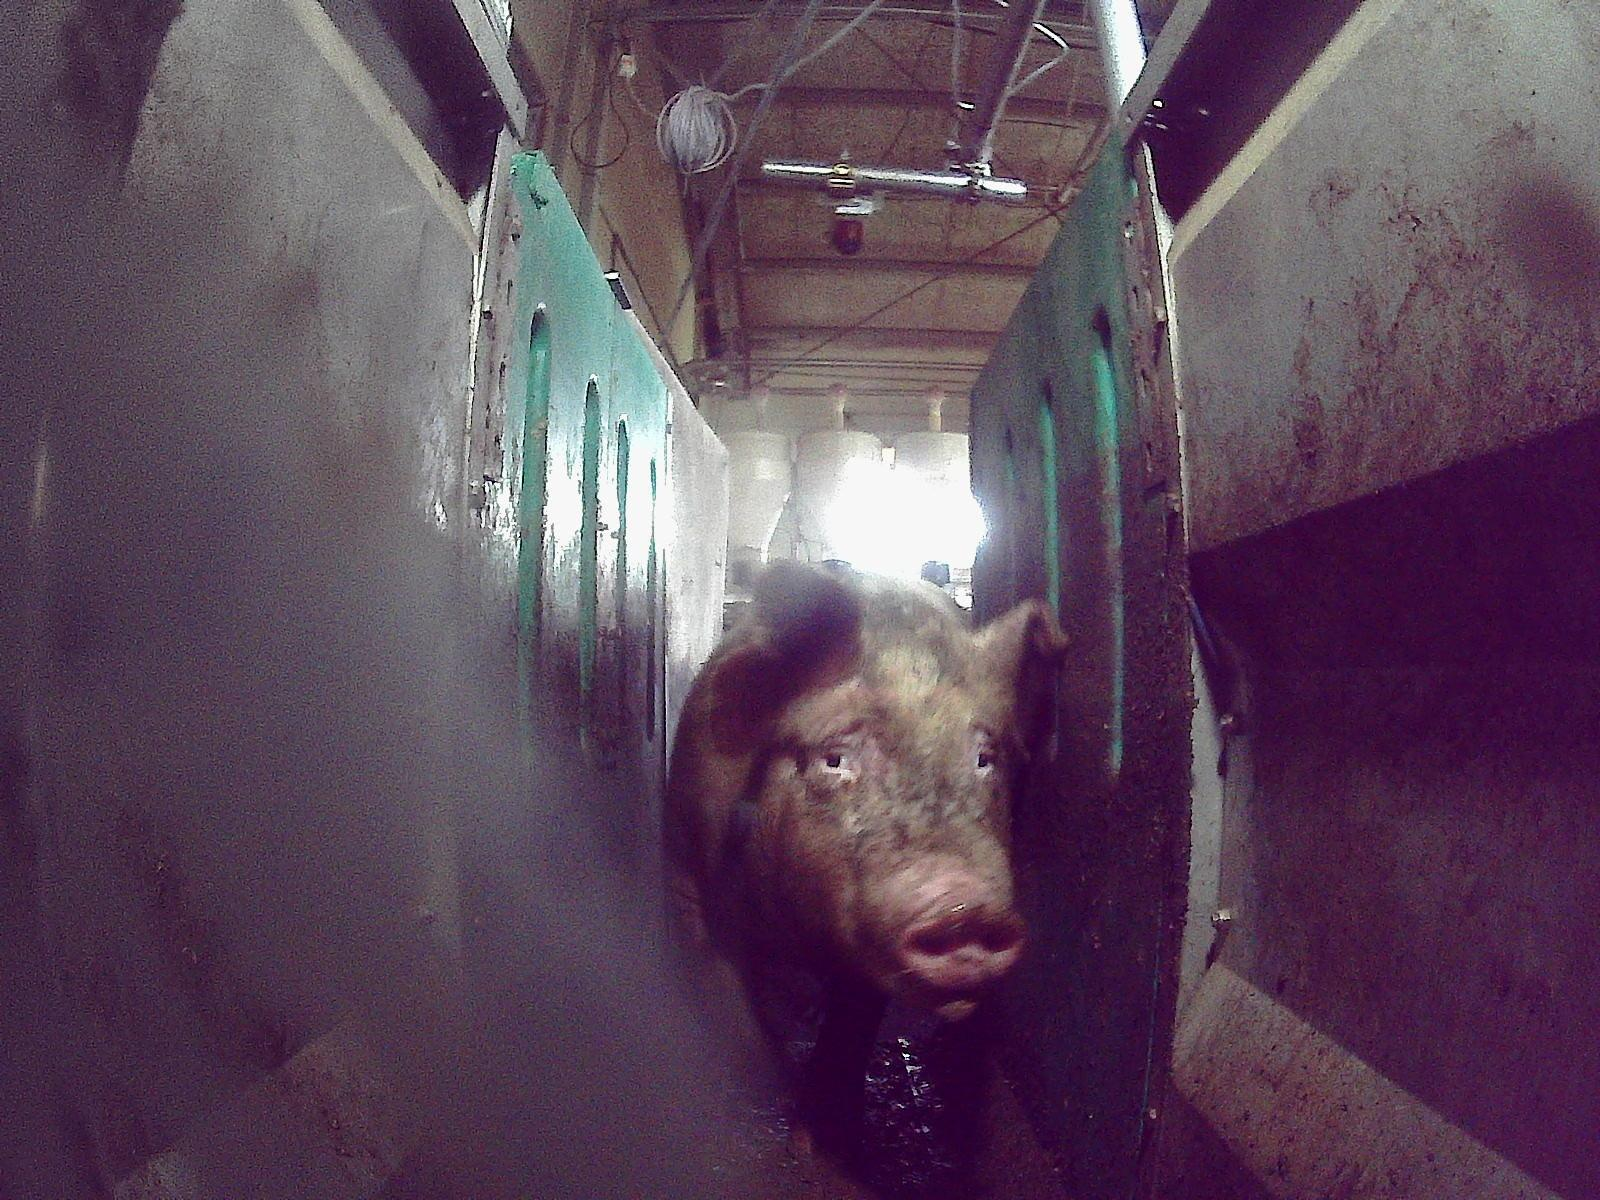Face: (744, 616, 1022, 1016)
